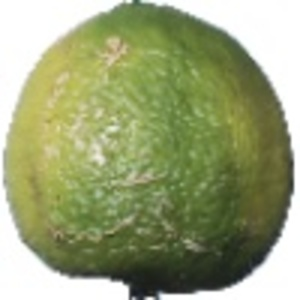limão: (3, 1, 294, 300)
